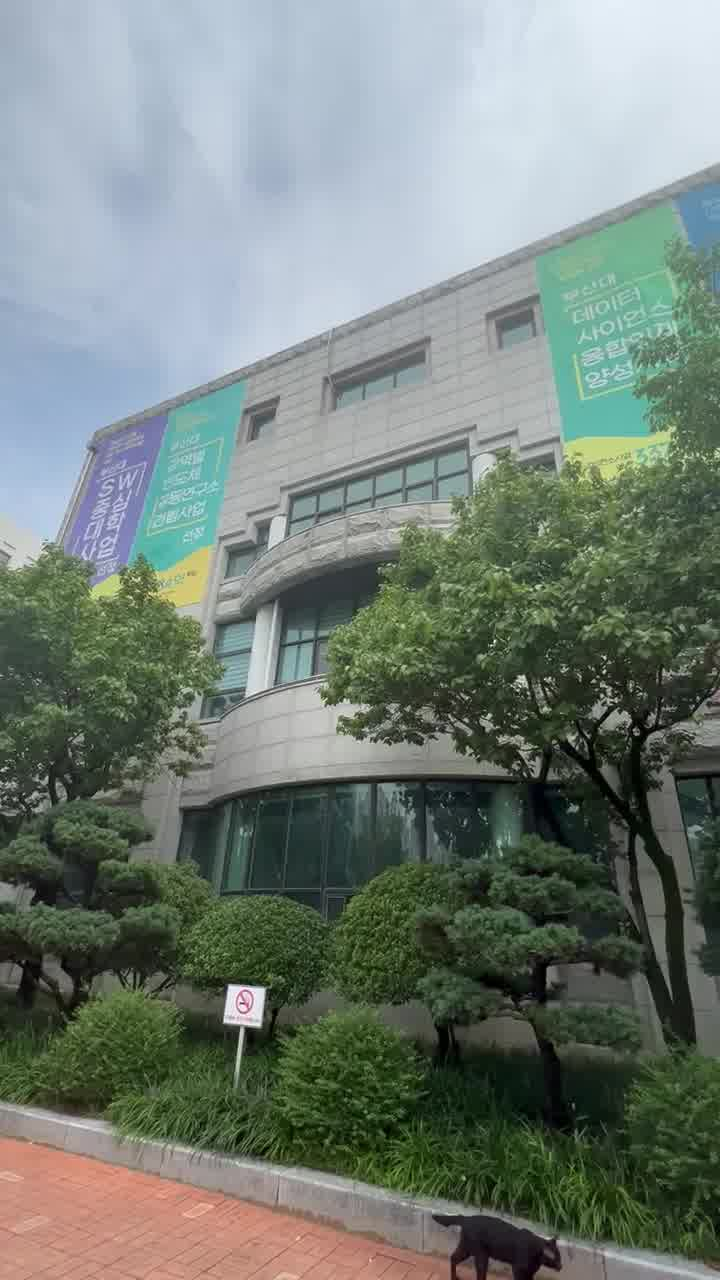low: (192, 330, 436, 764)
